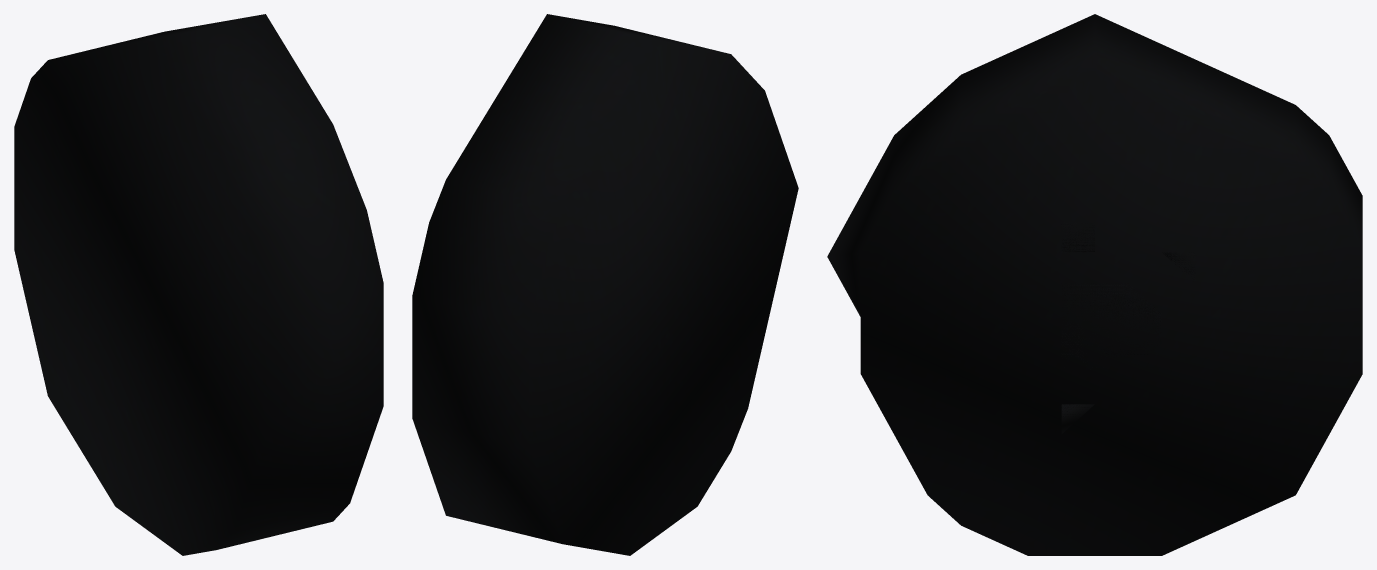
3 renders of one model, left to right at view 1: azimuth 30°, elevation 25°; view 2: azimuth 150°, elevation 25°; view 3: azimuth 270°, elevation 25°, orthographic.
Size of the model in its own units: 0.32 by 1.28 by 1.28.
Materials: 1 (1 with a texture image).
